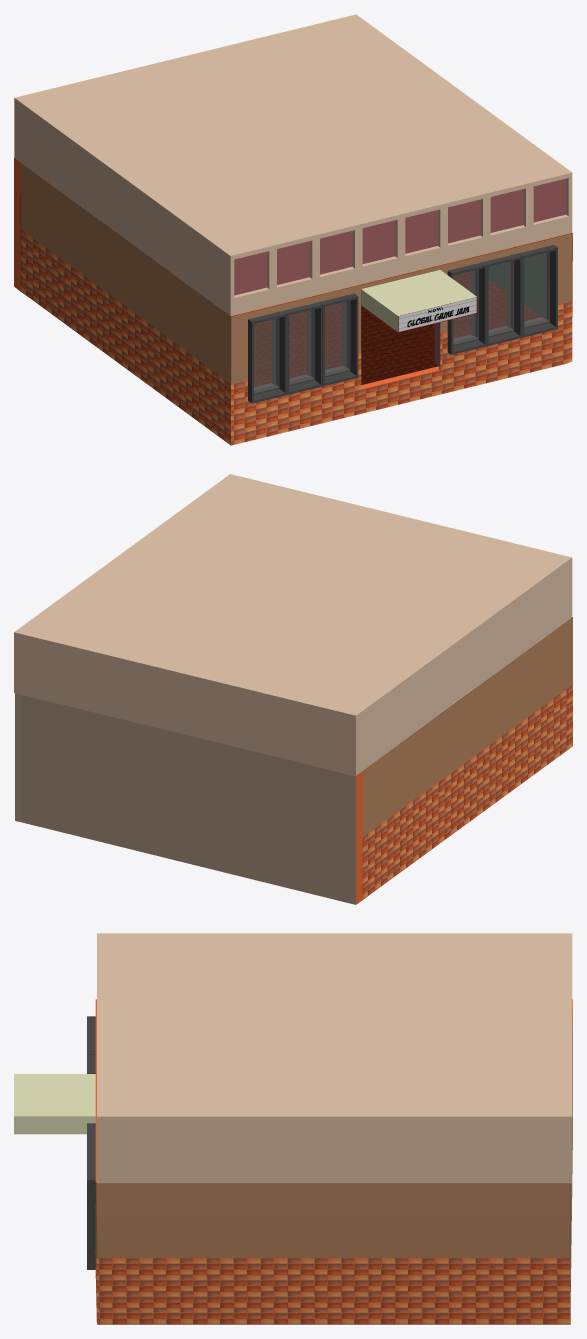
The model's file is Theater  V3.fbx.
3 renders of one model, top to bottom at view 1: azimuth 30°, elevation 25°; view 2: azimuth 150°, elevation 25°; view 3: azimuth 270°, elevation 25°, orthographic. The views are drawn at different scales.
Visible parts, largest first — view 1: Combined_Theater; view 2: Combined_Theater; view 3: Combined_Theater.
Boxes of the visible parts, x1,y1,x2,y2 form: Combined_Theater: (14,14,572,445); Combined_Theater: (14,474,572,904); Combined_Theater: (14,933,572,1324).
Bounding box in the file's own units: 1745 × 925 × 2245.
9 materials, 3 textured.
